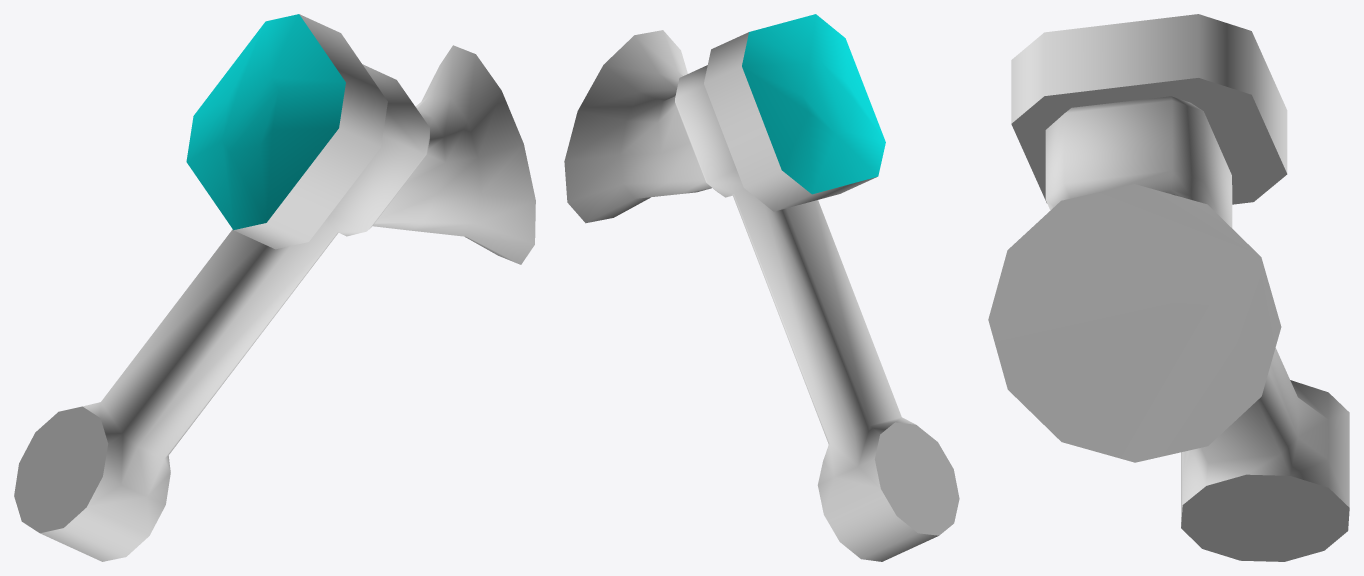
File: left_top_arm.obj
3 views of the same model, side by side, from view 1: azimuth 30°, elevation 25°; view 2: azimuth 150°, elevation 25°; view 3: azimuth 270°, elevation 25° (orthographic). The views are drawn at different scales.
Parts seen in each view (by area): view 1: left_arm_all; view 2: left_arm_all; view 3: left_arm_all.
Part boxes in pixels (<box>): left_arm_all: <box>14,14,535,561</box>; left_arm_all: <box>564,14,959,561</box>; left_arm_all: <box>988,14,1349,561</box>.
Bounding box in the file's own units: 1.34 × 1.57 × 0.7792.
